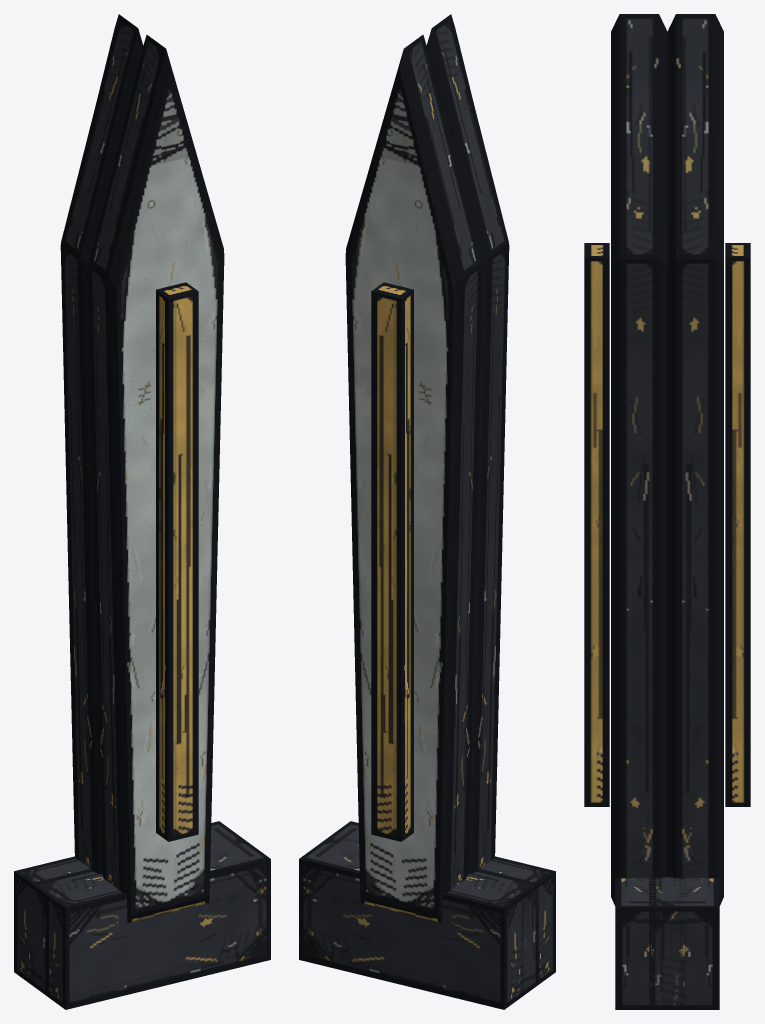
The model's file is accessory_extended_blade_fuller.glb.
The picture shows the model from 3 angles, left to right: view 1: azimuth 30°, elevation 25°; view 2: azimuth 150°, elevation 25°; view 3: azimuth 270°, elevation 25°; orthographic projection.
Parts seen in each view (by area): view 1: FACE_FRONT, FACE_BACK; view 2: FACE_BACK, FACE_FRONT; view 3: FACE_FRONT, FACE_BACK.
Boxes of the visible parts, <box> form: FACE_FRONT: <box>14,35,251,997</box>; FACE_BACK: <box>31,14,270,1009</box>; FACE_BACK: <box>324,35,555,996</box>; FACE_FRONT: <box>299,14,538,1009</box>; FACE_FRONT: <box>584,14,719,1009</box>; FACE_BACK: <box>615,14,750,1009</box>.
Size of the model in its own units: 0.17 by 0.74 by 0.118.
Materials: 1 (1 with a texture image).
